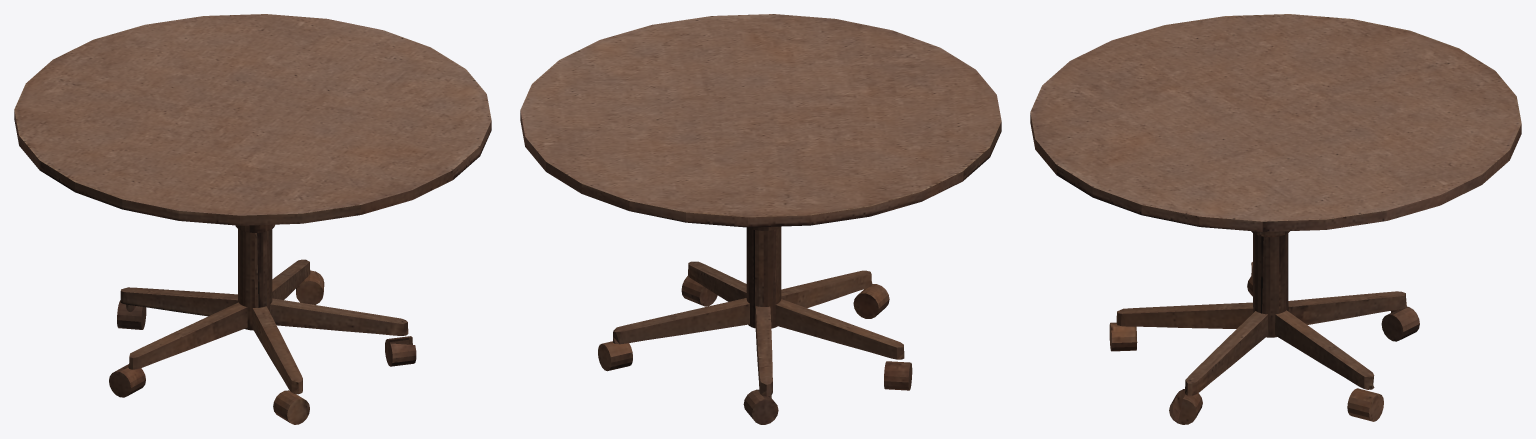
The picture shows the model from 3 angles, left to right: view 1: azimuth 30°, elevation 25°; view 2: azimuth 150°, elevation 25°; view 3: azimuth 270°, elevation 25°; orthographic projection. The views are drawn at different scales.
Visible parts, largest first — view 1: Node; view 2: Node; view 3: Node.
Boxes of the visible parts, bbox=[...] form: Node: bbox=[14, 14, 491, 424]; Node: bbox=[520, 14, 1001, 424]; Node: bbox=[1030, 14, 1521, 424].
Size of the model in its own units: 0.7 by 0.3925 by 0.7.
Materials: 1 (1 with a texture image).
